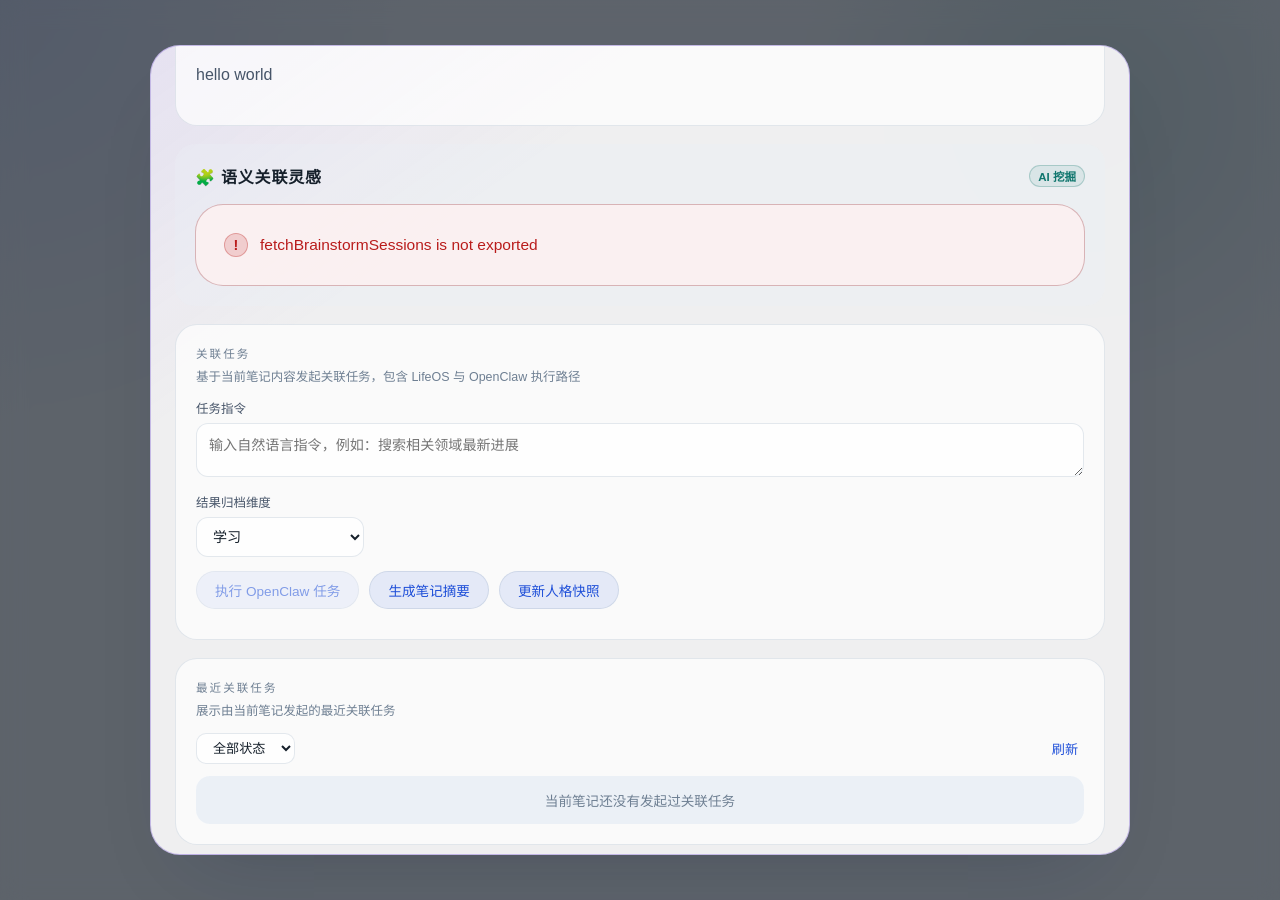
Scenario: NoteDetail › renders localized worker-task metadata after creating OpenClaw task
(page scrolled)
Type "search latest progress" into the text box with placeholder "输入自然语言指令，例如：搜索相关领域最新进展".
click(640, 450); type("search latest progress")  # box [196, 423, 1084, 477]
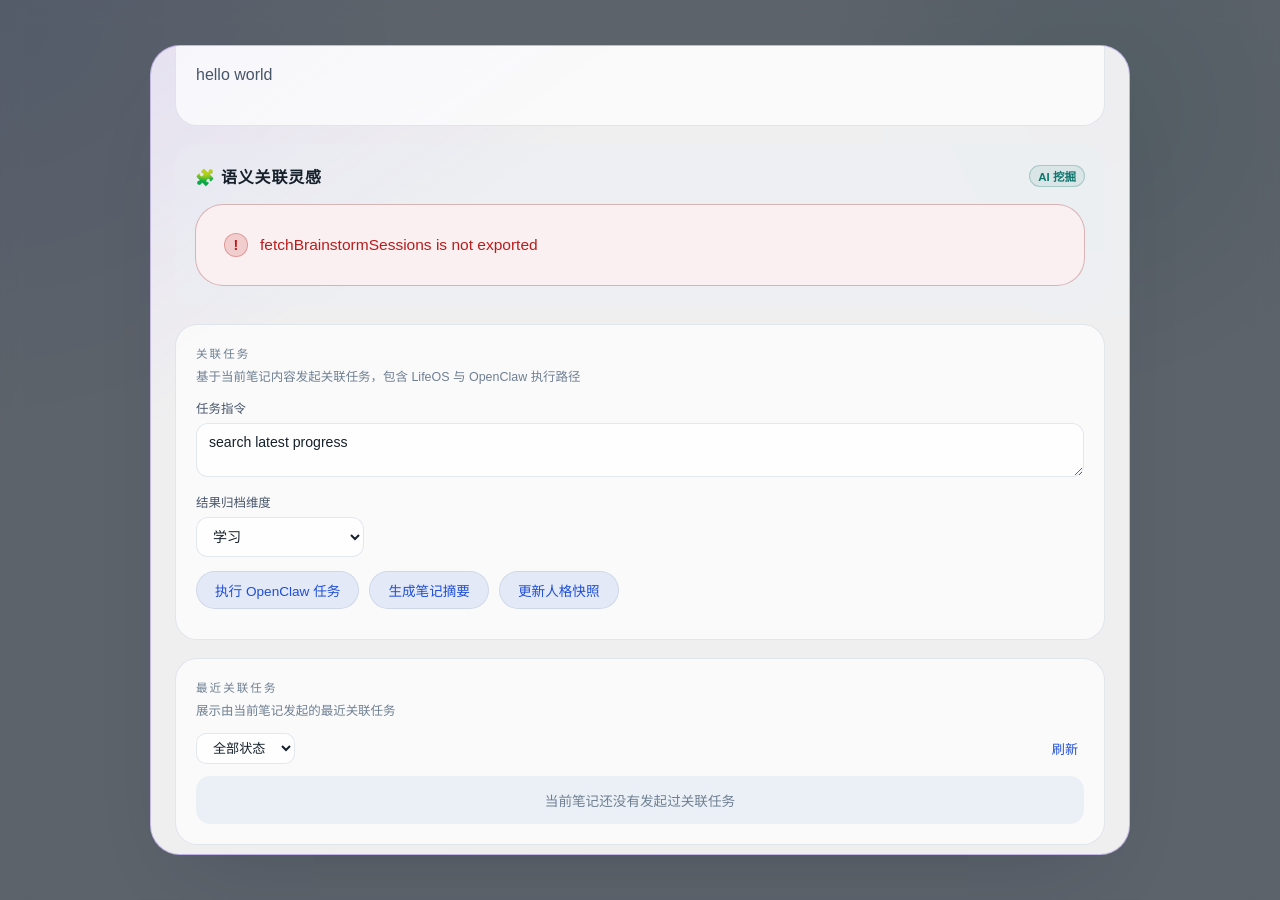
Click the button "执行 OpenClaw 任务".
click(278, 590)  # box [196, 571, 359, 609]
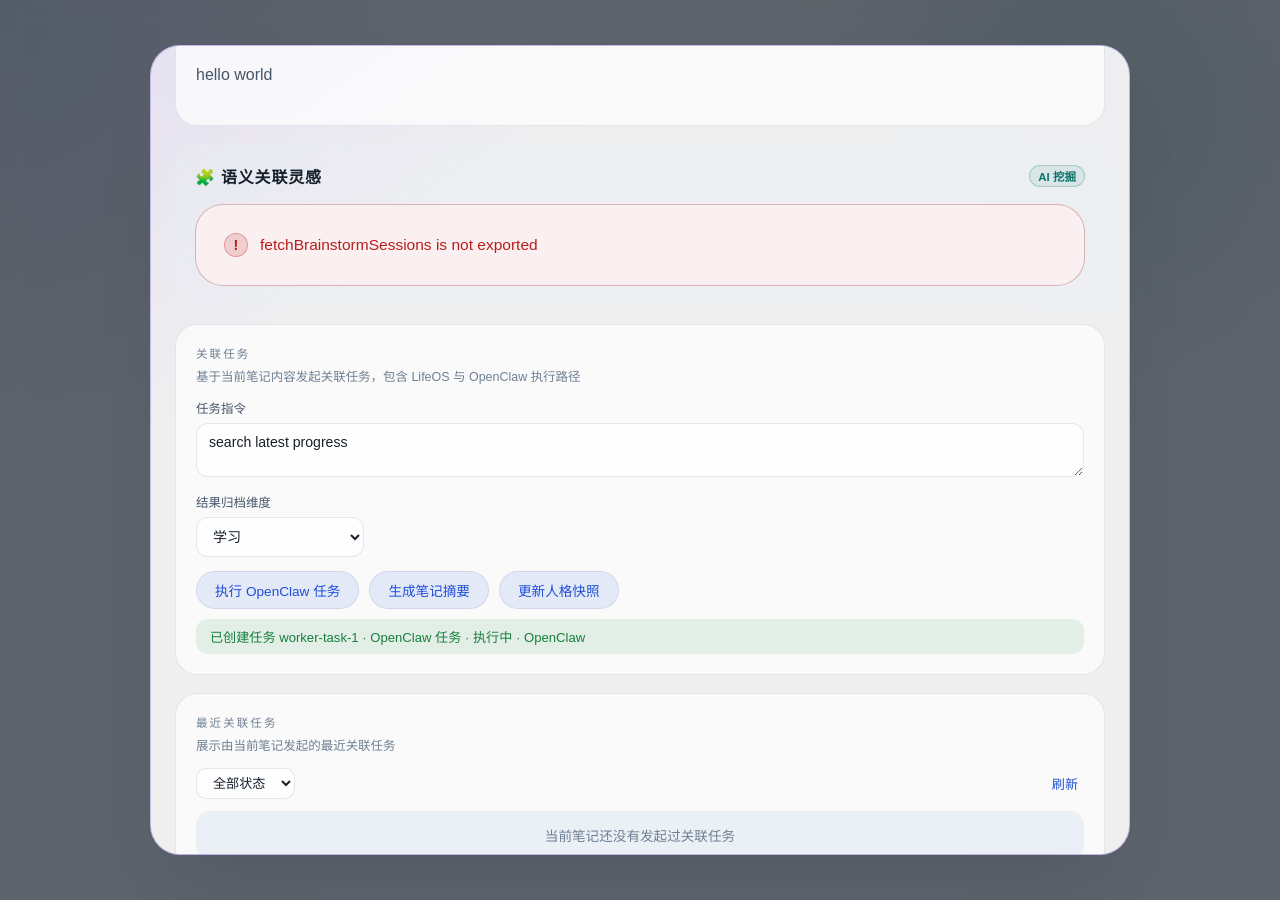
Expected: the text "openclaw" is not shown
Expected: the text "已创建任务 worker-task-1 · OpenClaw 任务 · 执行中 · OpenClaw" is shown, [196, 619, 1084, 654]
